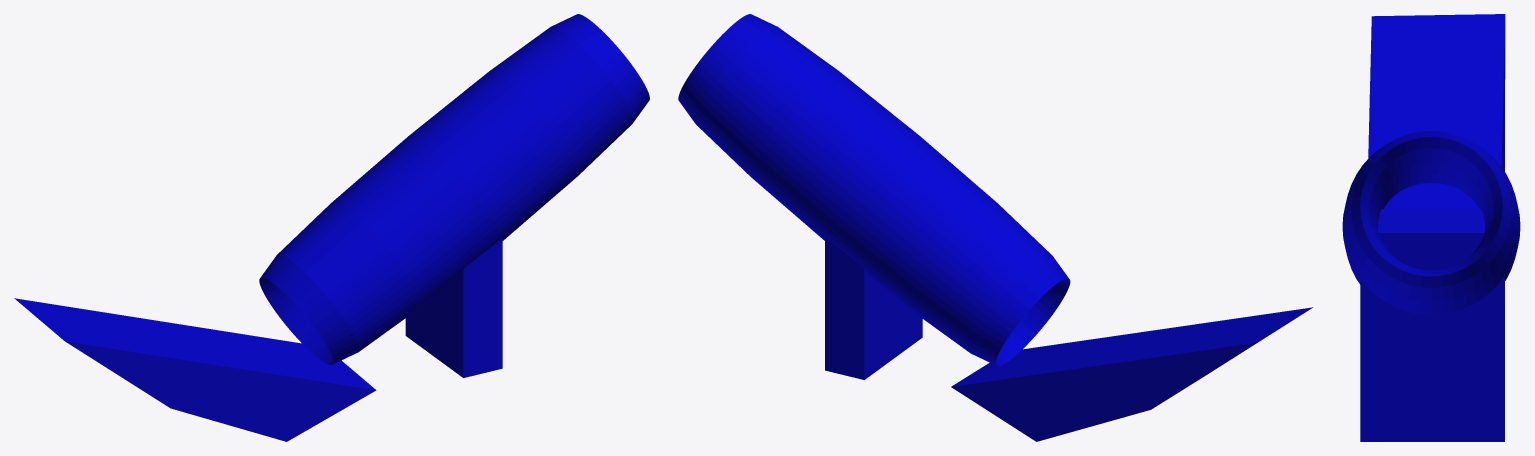
File: Anti-gravitytube.fbx
3 renders of one model, left to right at view 1: azimuth 30°, elevation 25°; view 2: azimuth 150°, elevation 25°; view 3: azimuth 270°, elevation 25°, orthographic. The views are drawn at different scales.
Parts seen in each view (by area): view 1: Cube; view 2: Cube; view 3: Cube.
Boxes of the visible parts, box(x1,y1,x2,y2) form: Cube: box(14, 14, 649, 441); Cube: box(678, 14, 1312, 441); Cube: box(1342, 14, 1520, 441).
Size of the model in its own units: 2251 by 1171 by 467.
